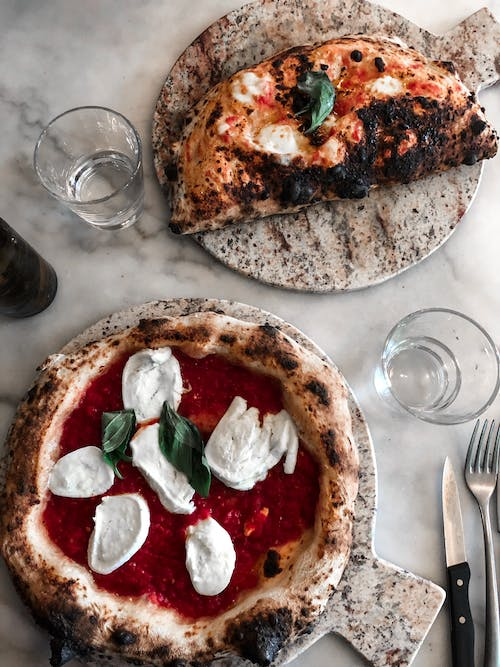knife: (439, 453, 481, 667)
